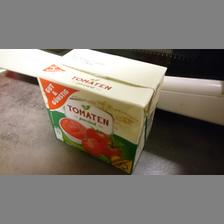Tomatensauce: (34, 47, 166, 172)
